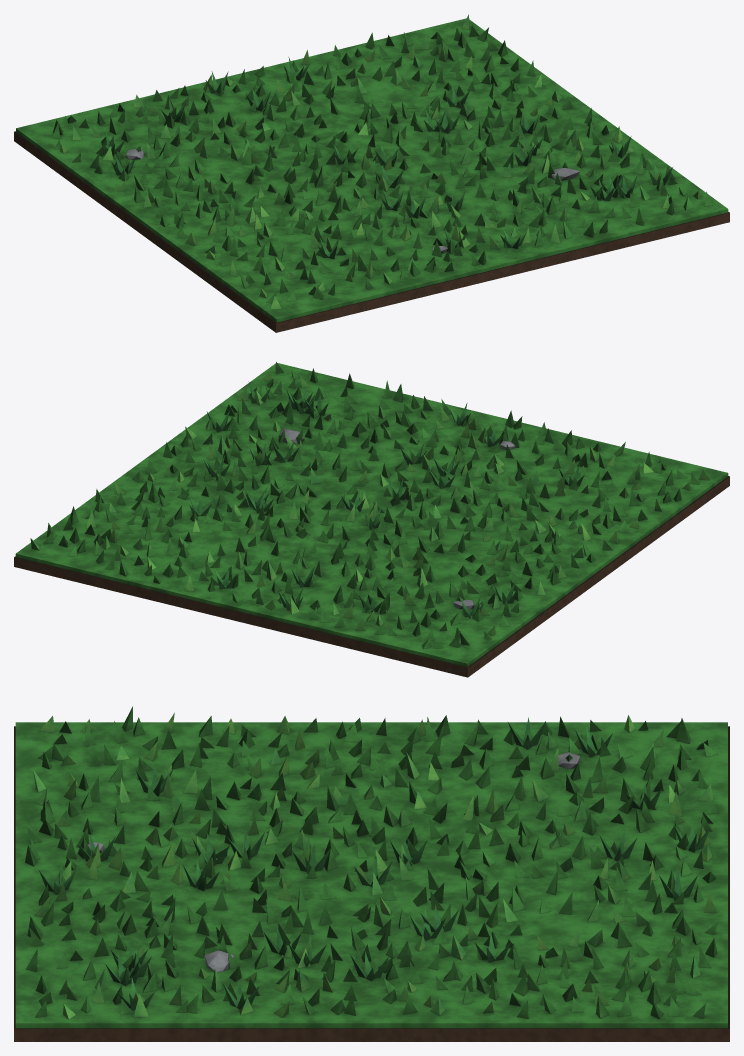
File: cesped_modular.fbx
3 renders of one model, top to bottom at view 1: azimuth 30°, elevation 25°; view 2: azimuth 150°, elevation 25°; view 3: azimuth 270°, elevation 25°, orthographic. The views are drawn at different scales.
Visible parts, largest first — view 1: cesped_modular; view 2: cesped_modular; view 3: cesped_modular.
Part boxes in pixels (box(x1,y1,x2,y2)): cesped_modular: box(14, 14, 729, 332); cesped_modular: box(14, 362, 729, 677); cesped_modular: box(14, 706, 729, 1041).
Size of the model in its own units: 8 by 0.4998 by 8.
1 material, 1 textured.
